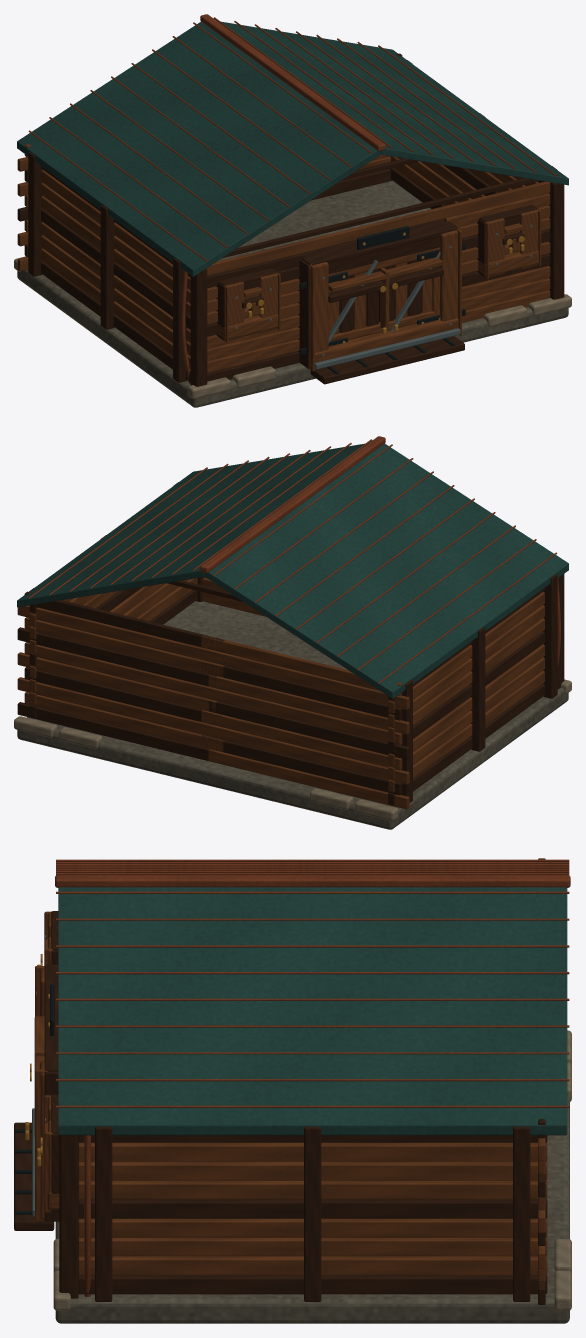
File: asset.glb
The picture shows the model from 3 angles, top to bottom: view 1: azimuth 30°, elevation 25°; view 2: azimuth 150°, elevation 25°; view 3: azimuth 270°, elevation 25°; orthographic projection. The views are drawn at different scales.
Parts seen in each view (by area): view 1: MaterialBatch_Oxidised_copper_roofing, MaterialBatch_Quarter-sawn_oak, MaterialBatch_Smoke-stained_walnut, MaterialBatch_Weathered_copper, Depot cut-stone sill course, MaterialBatch_Warm_lime_mortar, MaterialBatch_Brushed_steel, MaterialBatch_Forged_blue-black_iron, MaterialBatch_Aged_brass; view 2: MaterialBatch_Oxidised_copper_roofing, MaterialBatch_Quarter-sawn_oak, MaterialBatch_Smoke-stained_walnut, Depot cut-stone sill course, MaterialBatch_Weathered_copper, MaterialBatch_Warm_lime_mortar; view 3: MaterialBatch_Oxidised_copper_roofing, MaterialBatch_Quarter-sawn_oak, MaterialBatch_Smoke-stained_walnut, MaterialBatch_Weathered_copper, Depot cut-stone sill course, MaterialBatch_Warm_lime_mortar, MaterialBatch_Forged_blue-black_iron.
Boxes of the visible parts, left/top/right/bottom form: MaterialBatch_Oxidised_copper_roofing: left=17, top=21, right=568, bottom=276; MaterialBatch_Quarter-sawn_oak: left=17, top=144, right=550, bottom=372; MaterialBatch_Smoke-stained_walnut: left=17, top=53, right=564, bottom=386; MaterialBatch_Weathered_copper: left=28, top=14, right=556, bottom=383; Depot cut-stone sill course: left=17, top=180, right=568, bottom=407; MaterialBatch_Warm_lime_mortar: left=14, top=256, right=571, bottom=398; MaterialBatch_Brushed_steel: left=235, top=224, right=532, bottom=369; MaterialBatch_Forged_blue-black_iron: left=299, top=226, right=465, bottom=374; MaterialBatch_Aged_brass: left=246, top=232, right=524, bottom=343; MaterialBatch_Oxidised_copper_roofing: left=17, top=443, right=568, bottom=698; MaterialBatch_Quarter-sawn_oak: left=17, top=577, right=544, bottom=809; MaterialBatch_Smoke-stained_walnut: left=17, top=482, right=564, bottom=805; Depot cut-stone sill course: left=17, top=601, right=568, bottom=829; MaterialBatch_Weathered_copper: left=29, top=436, right=560, bottom=683; MaterialBatch_Warm_lime_mortar: left=14, top=679, right=571, bottom=820; MaterialBatch_Oxidised_copper_roofing: left=58, top=887, right=567, bottom=1135; MaterialBatch_Quarter-sawn_oak: left=34, top=858, right=547, bottom=1281; MaterialBatch_Smoke-stained_walnut: left=14, top=911, right=547, bottom=1304; MaterialBatch_Weathered_copper: left=55, top=859, right=570, bottom=1296; Depot cut-stone sill course: left=55, top=1096, right=569, bottom=1323; MaterialBatch_Warm_lime_mortar: left=53, top=1030, right=571, bottom=1310; MaterialBatch_Forged_blue-black_iron: left=15, top=984, right=54, bottom=1214.
Bounding box in the file's own units: 24.24 × 13.02 × 20.83.
Materials: 10 (10 with a texture image).
